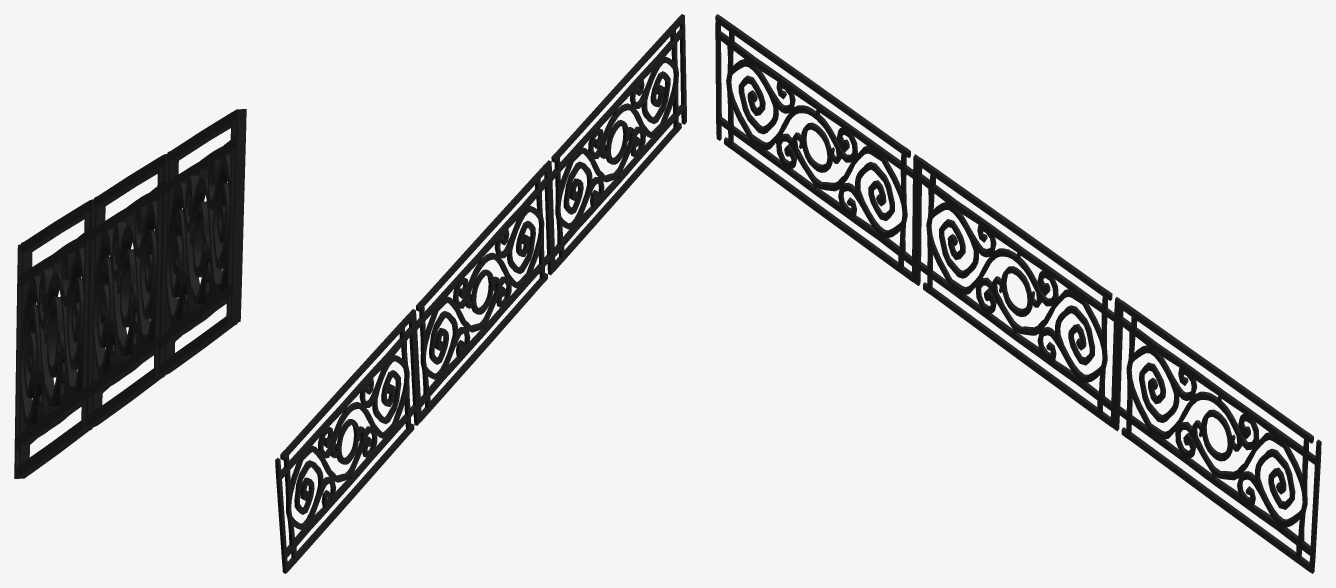
The model's file is SideRallingBusStopStair.fbx.
The picture shows the model from 3 angles, left to right: view 1: azimuth 30°, elevation 25°; view 2: azimuth 150°, elevation 25°; view 3: azimuth 270°, elevation 25°; orthographic projection. The views are drawn at different scales.
Visible parts, largest first — view 1: railing14; view 2: railing14; view 3: railing14.
Boxes of the visible parts, left/top/right/bottom form: railing14: left=14, top=109, right=246, bottom=478; railing14: left=275, top=14, right=686, bottom=573; railing14: left=715, top=14, right=1321, bottom=573.
Bounding box in the file's own units: 3.21 × 8.08 × 9.33.
